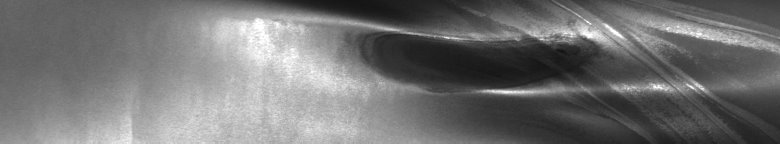ke: (264, 4, 776, 136)
